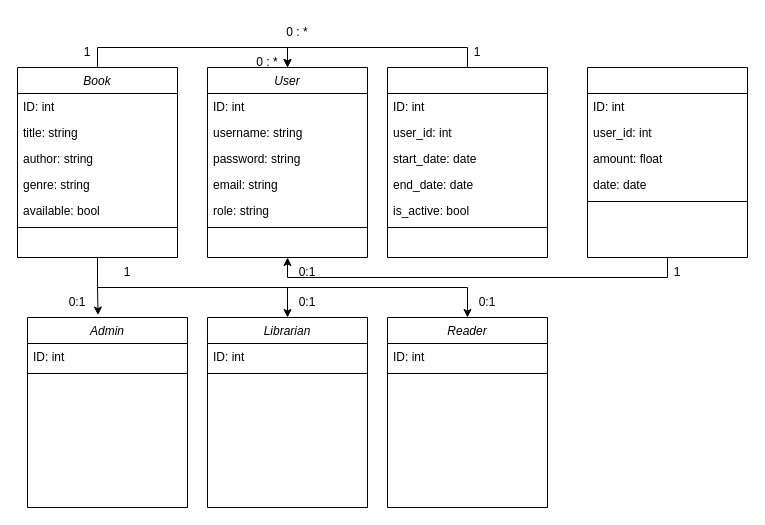
Some shapes in this 765 by 525 pixel diagram are drawn without their labels. The box of each missing label's shape, as (x1, y1, x2, y2) in pixels:
Payment: (586, 66, 748, 258)
Subscription: (386, 66, 548, 258)
